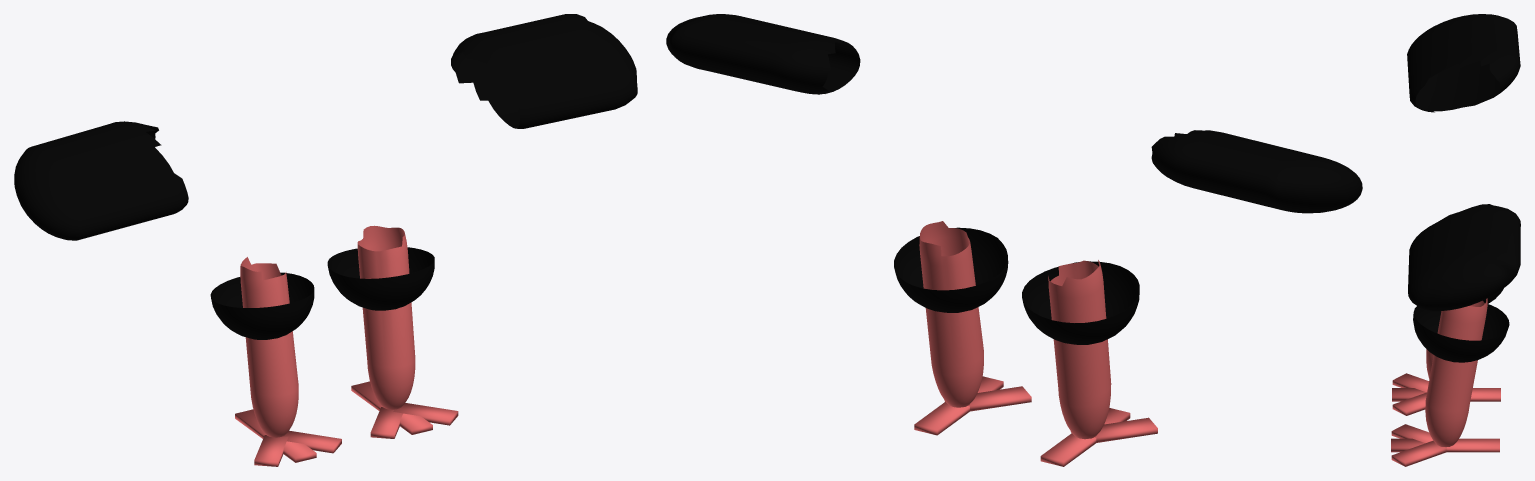
Rendered from Limbs.fbx.
The picture shows the model from 3 angles, left to right: view 1: azimuth 30°, elevation 25°; view 2: azimuth 150°, elevation 25°; view 3: azimuth 270°, elevation 25°; orthographic projection. The views are drawn at different scales.
Visible parts, largest first — view 1: rightArm, leftArm, rightLeg, leftLeg; view 2: rightLeg, leftLeg, leftArm, rightArm; view 3: rightLeg, rightArm, leftArm, leftLeg.
Part boxes in pixels (x1,y1,x2,y2): rightArm: (451,14,637,128); leftArm: (14,121,188,240); rightLeg: (327,225,458,438); leftLeg: (210,257,341,466); rightLeg: (894,221,1031,435); leftLeg: (1022,260,1157,466); leftArm: (1151,130,1362,213); rightArm: (666,14,860,94); rightLeg: (1391,298,1509,466); rightArm: (1408,204,1520,311); leftArm: (1407,14,1520,112); leftLeg: (1392,288,1503,415).
Size of the model in its own units: 82.72 by 41.88 by 17.02.
